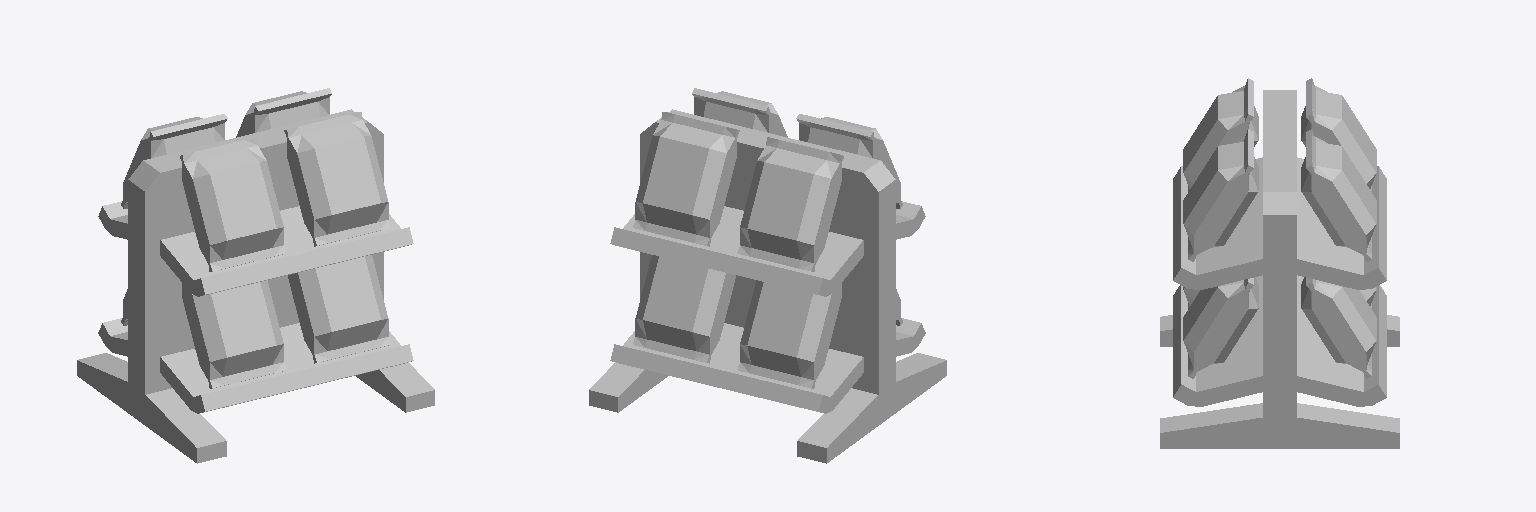
Rendered from shelf-bags.obj.
3 views of the same model, side by side, from view 1: azimuth 30°, elevation 25°; view 2: azimuth 150°, elevation 25°; view 3: azimuth 270°, elevation 25° (orthographic).
Visible parts, largest first — view 1: bag, shelf-bags; view 2: bag, shelf-bags; view 3: shelf-bags, bag.
Boxes of the visible parts, x1=… form: bag: x1=121, y1=88, x2=390, y2=388; shelf-bags: x1=77, y1=109, x2=434, y2=463; bag: x1=633, y1=88, x2=902, y2=388; shelf-bags: x1=589, y1=109, x2=946, y2=463; shelf-bags: x1=1160, y1=90, x2=1399, y2=448; bag: x1=1183, y1=78, x2=1376, y2=378.
Bounding box in the file's own units: 0.8 × 0.8634 × 0.7.